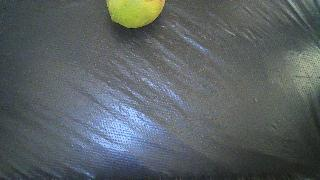DESECHO: (106, 0, 165, 28)
